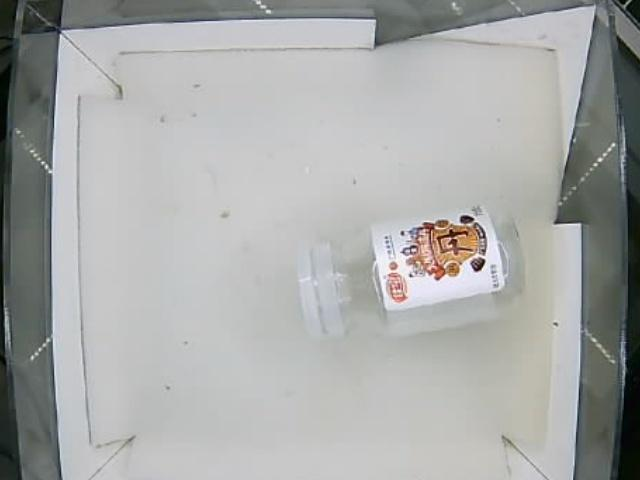Bottle: (297, 194, 528, 341)
